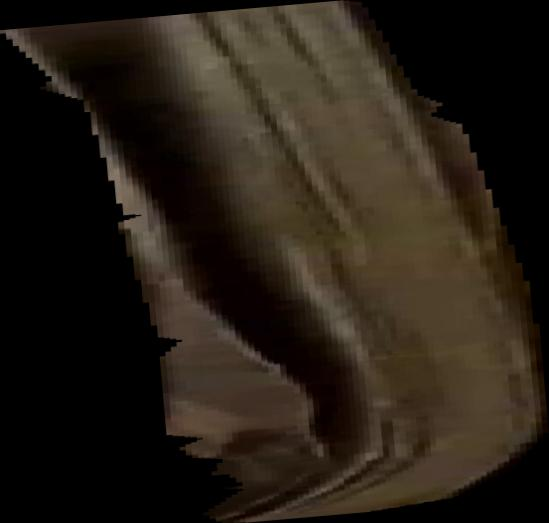backward: (1, 1, 549, 523)
